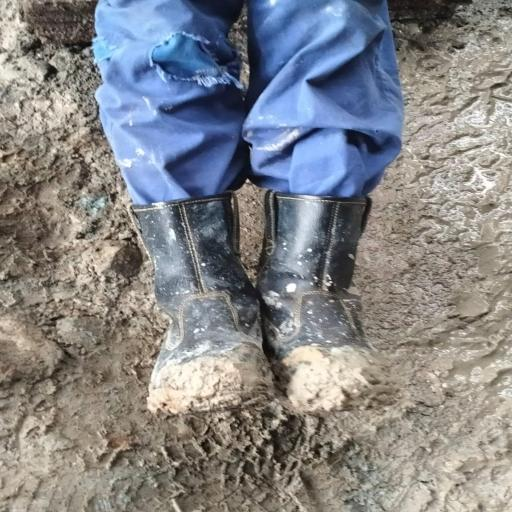safety_shoe: (122, 208, 263, 412), (255, 192, 389, 398)
